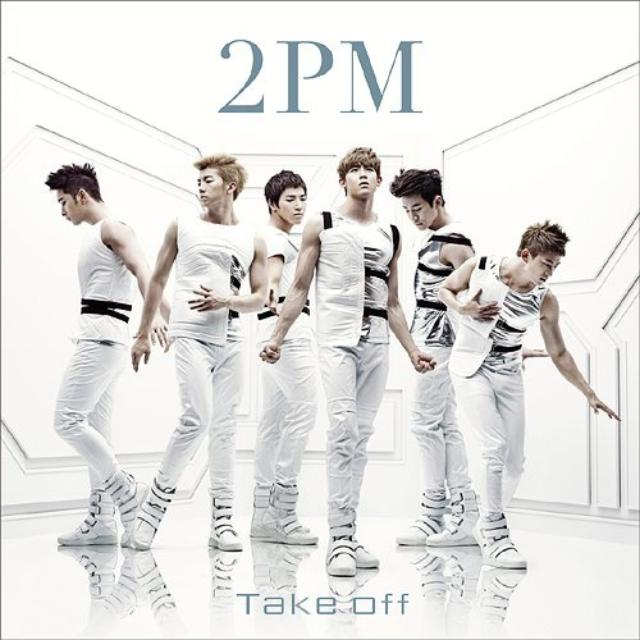head: (54, 167, 104, 230), (519, 222, 563, 288), (400, 169, 444, 233), (264, 170, 310, 226), (198, 158, 242, 210), (340, 155, 384, 201)
person: (254, 143, 446, 581), (425, 218, 627, 574), (127, 153, 279, 557), (45, 154, 183, 552), (382, 162, 492, 550), (239, 168, 349, 550)
